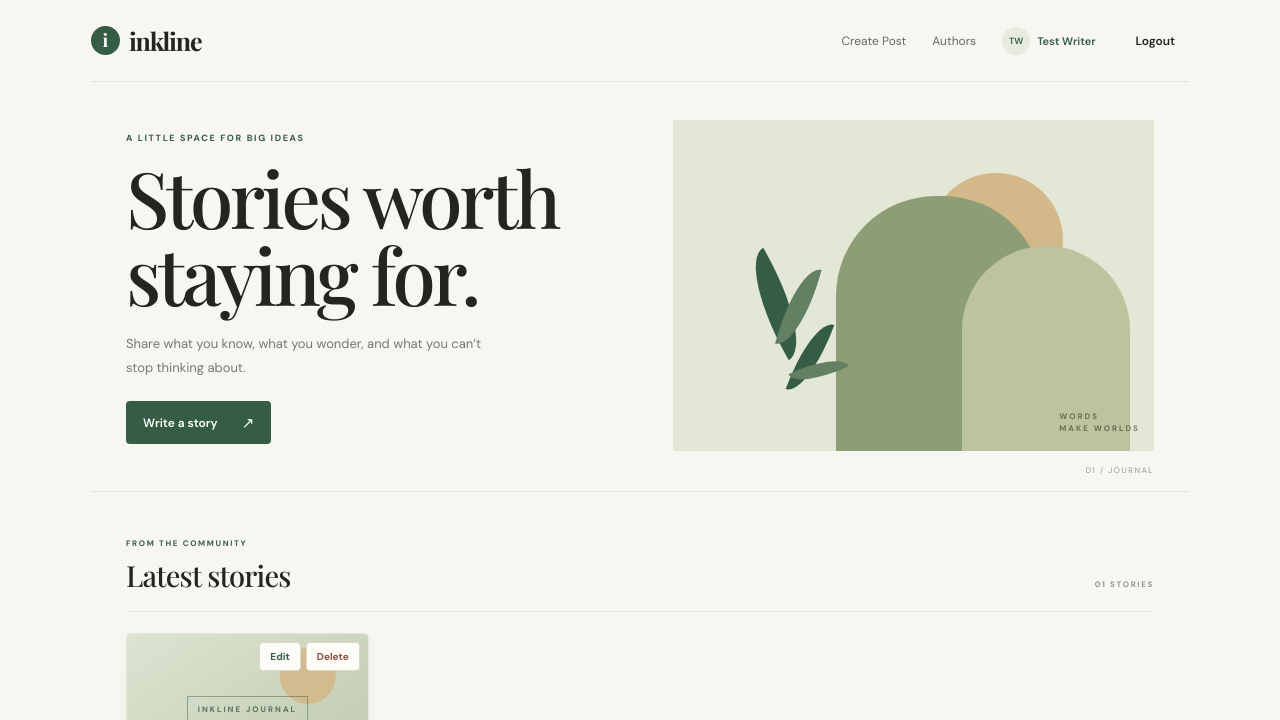
Test case: shows a post deletion error and keeps the story when the API rejects deletion
Click the button with aria-label "Delete story: A protected story" at {"x": 333, "y": 656}, box left=306, top=642, right=360, bottom=671
(page scrolled)
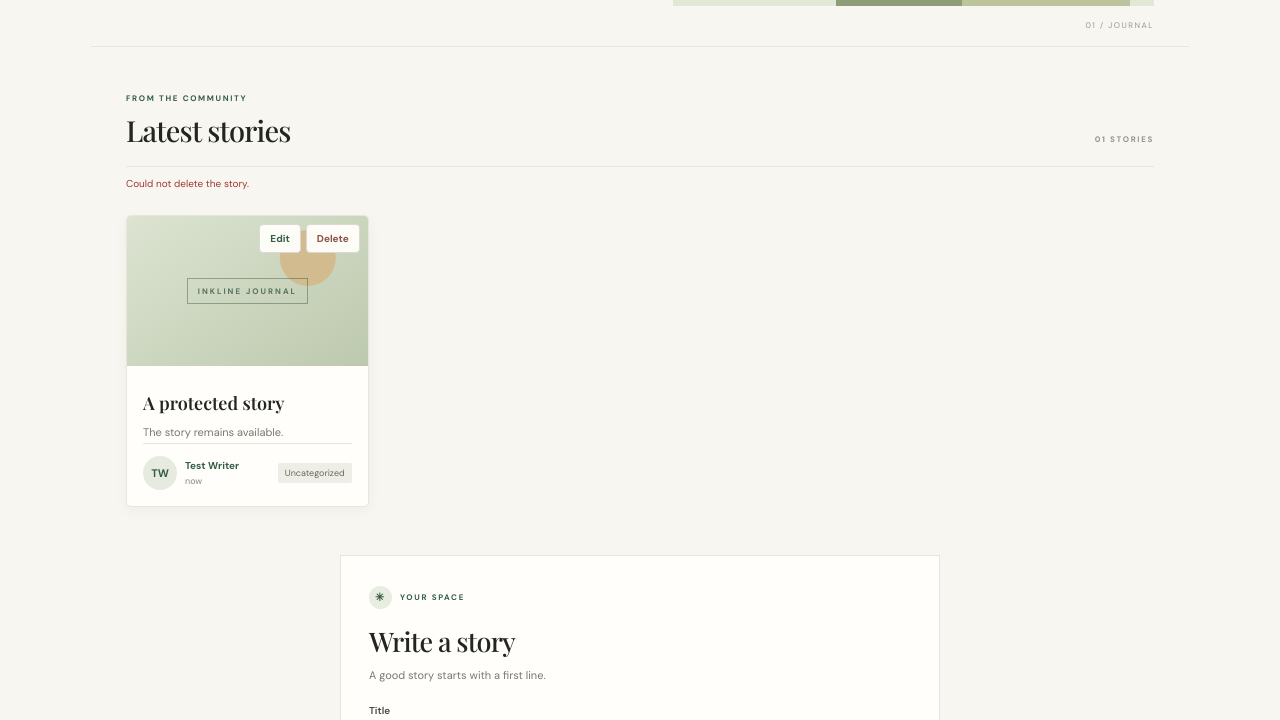
Expected: the link with aria-label "Read story: A protected story" is shown, left=126, top=215, right=369, bottom=507
Expected: the message reads "Could not delete the story.", left=126, top=177, right=249, bottom=190
